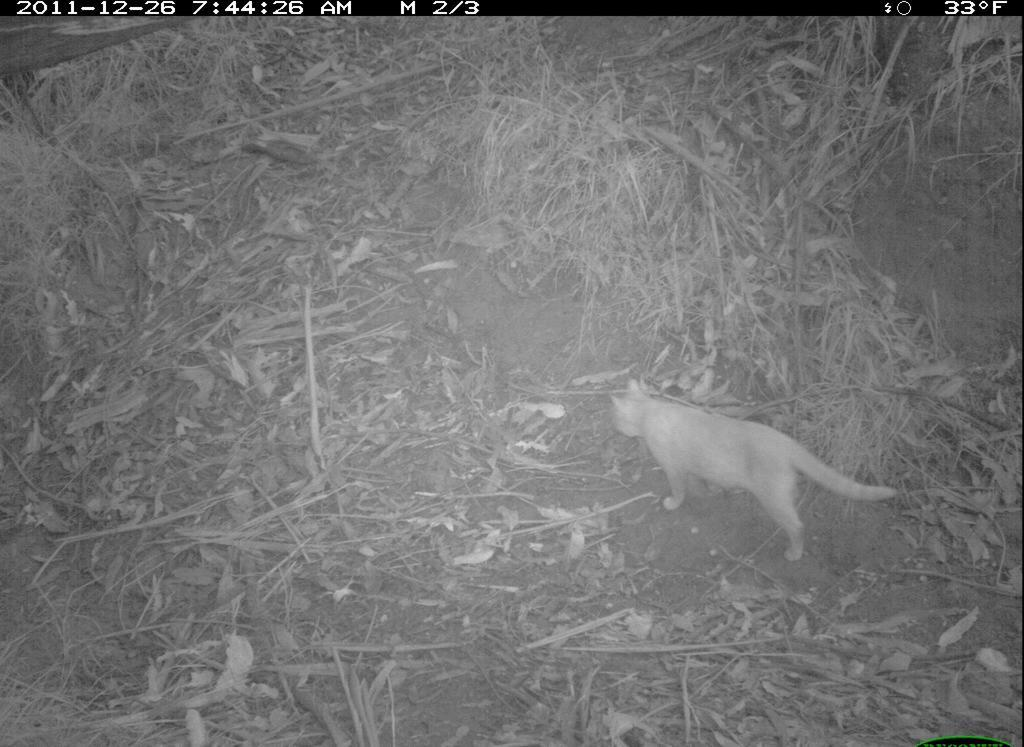cat: (591, 369, 908, 577)
